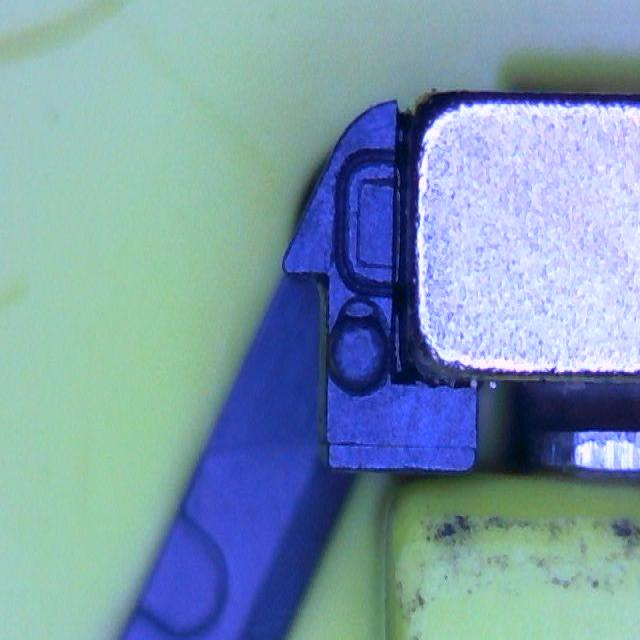lacking: (332, 146, 404, 300)
